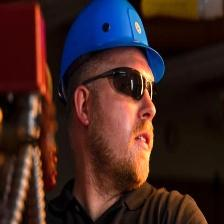Person: (55, 2, 207, 224)
helmet: (61, 1, 164, 81)
